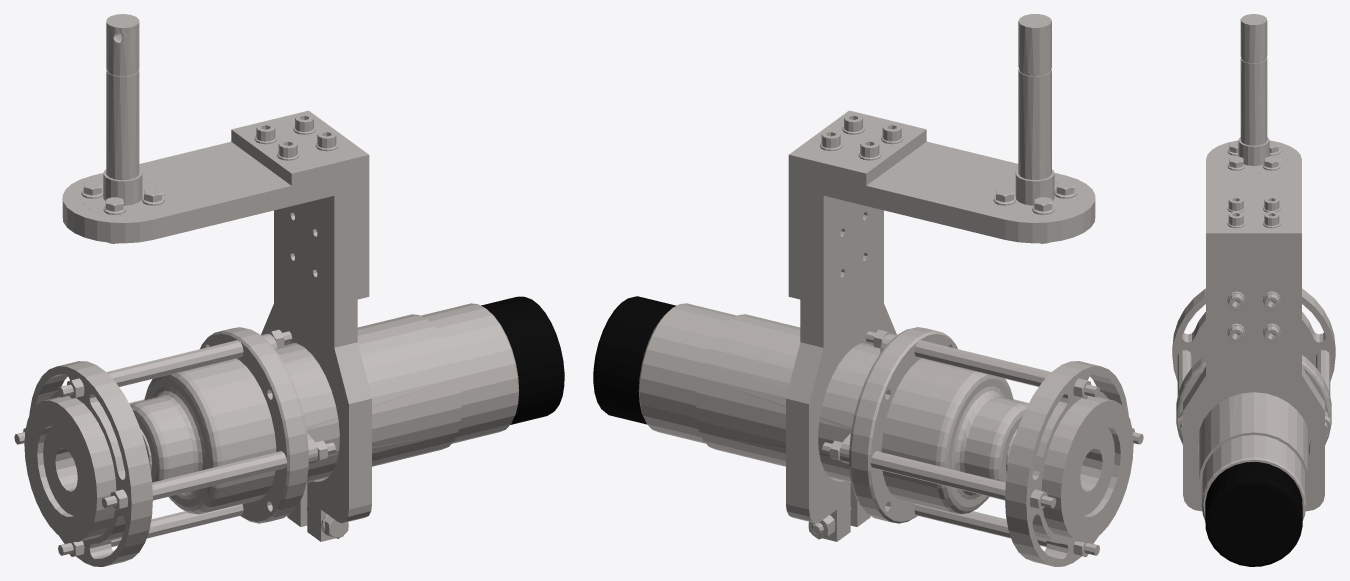
Rendered from steer_link.dae.
3 renders of one model, left to right at view 1: azimuth 30°, elevation 25°; view 2: azimuth 150°, elevation 25°; view 3: azimuth 270°, elevation 25°, orthographic. The views are drawn at different scales.
Parts seen in each view (by area): view 1: Steer_Link; view 2: Steer_Link; view 3: Steer_Link.
Part boxes in pixels (box(x1,y1,x2,y2)): Steer_Link: box(14, 14, 564, 566); Steer_Link: box(593, 14, 1143, 566); Steer_Link: box(1172, 14, 1335, 566).
Size of the model in its own units: 0.245 by 0.092 by 0.2725.
Materials: 1 (1 with a texture image).
